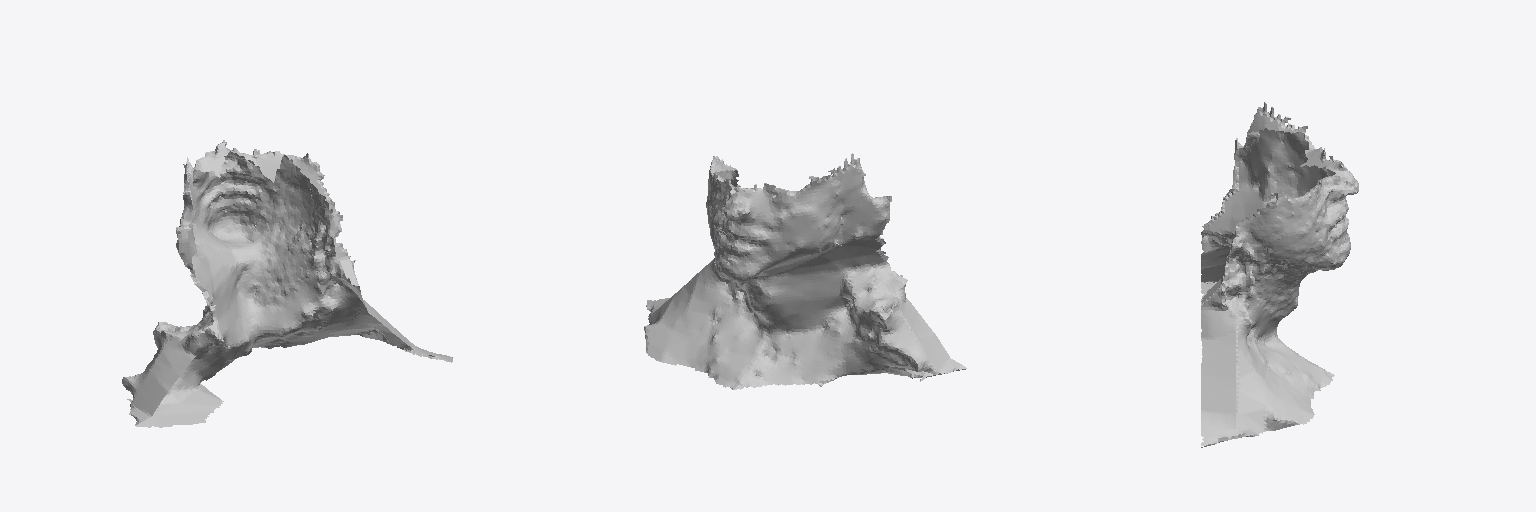
The model's file is henrik1rotate5.obj.
The picture shows the model from 3 angles: view 1: azimuth 30°, elevation 25°; view 2: azimuth 150°, elevation 25°; view 3: azimuth 270°, elevation 25°; orthographic projection.
Parts seen in each view (by area): view 1: model_tex_u1_v1_0; view 2: model_tex_u1_v1_0; view 3: model_tex_u1_v1_0.
Part boxes in pixels (bbox=[...]): model_tex_u1_v1_0: bbox=[122, 140, 452, 427]; model_tex_u1_v1_0: bbox=[644, 153, 966, 389]; model_tex_u1_v1_0: bbox=[1201, 102, 1358, 447].
Size of the model in its own units: 7.61 by 5.29 by 3.27.